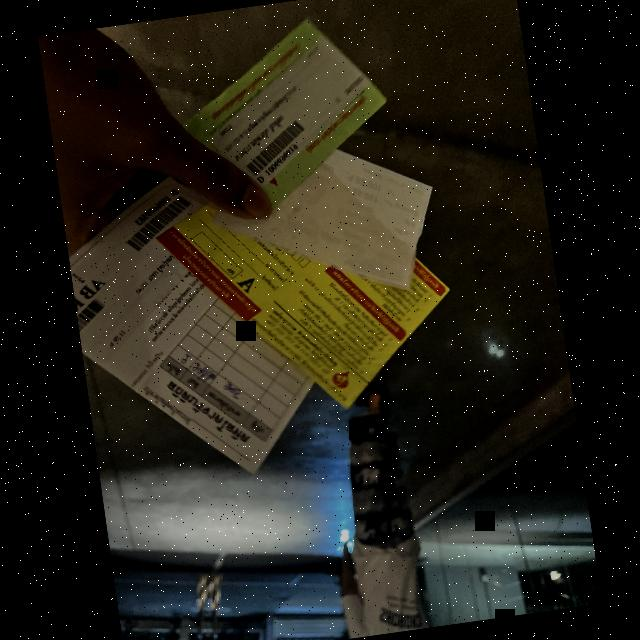scrap_paper: (62, 159, 328, 498), (150, 160, 468, 442), (206, 123, 450, 320), (169, 14, 398, 222)
